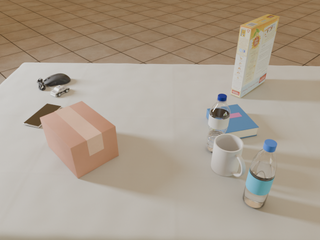book: (206, 104, 258, 139)
bottle: (243, 139, 277, 208), (206, 94, 230, 152)
box: (40, 101, 119, 178), (231, 14, 279, 98)
cup: (211, 133, 246, 177)
mouse: (37, 73, 71, 90)
phone: (23, 104, 61, 128)
toy_car: (51, 85, 70, 97)
